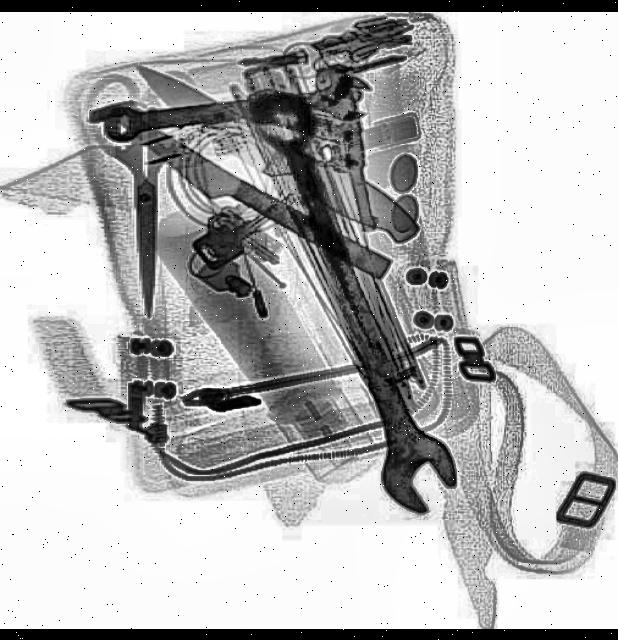Gun: (245, 69, 382, 251)
Knife: (124, 42, 425, 258), (100, 86, 390, 292), (112, 109, 176, 317)
Wrench: (233, 72, 465, 522), (98, 59, 372, 153)
